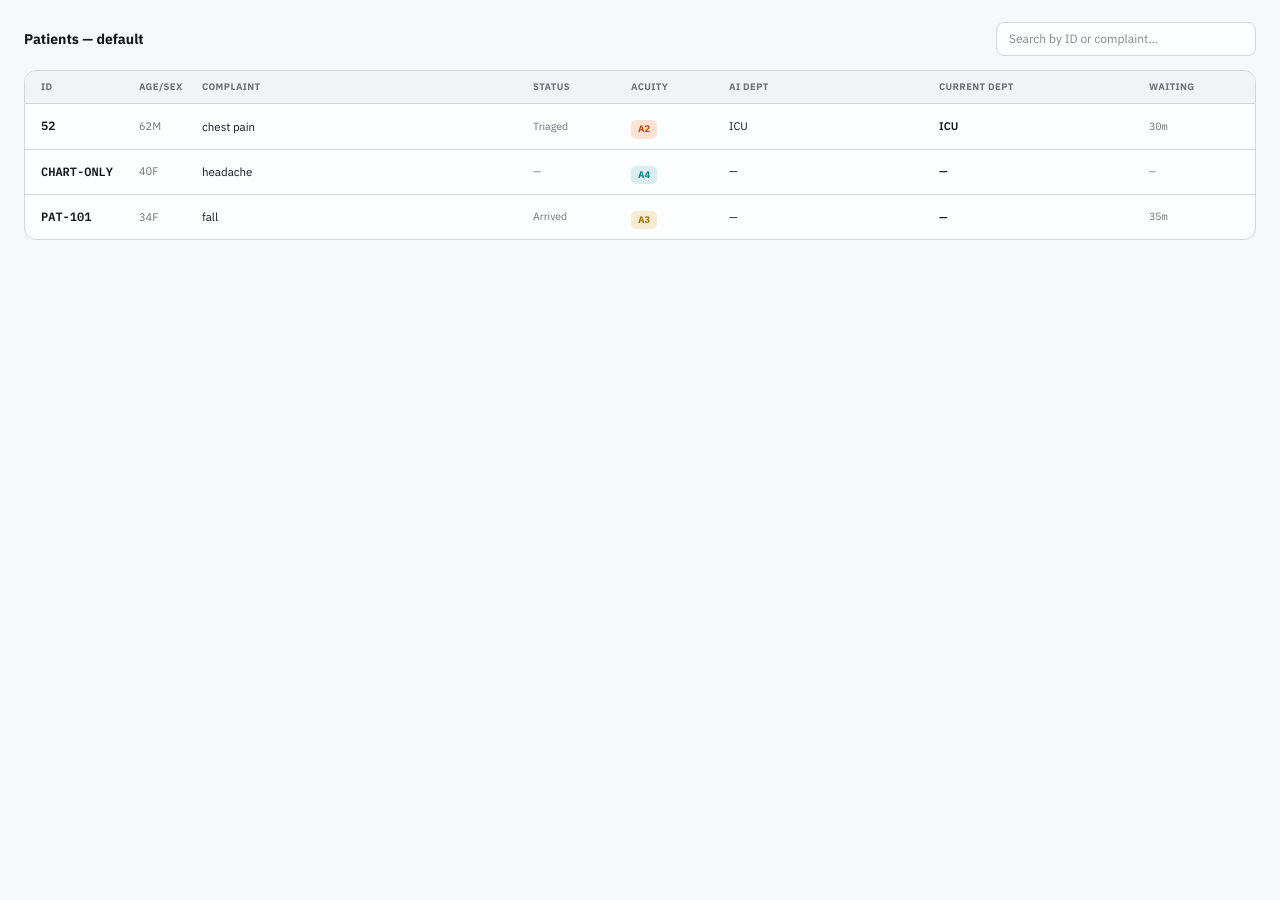
Test: PatientList table › Triage Patient for a chart-only patient (Fix 2) › offers Triage Patient in the drawer, and clicking it activates + triages the patient in one flow
Click the text "CHART-ONLY" at (77, 171), box [41, 164, 113, 179]
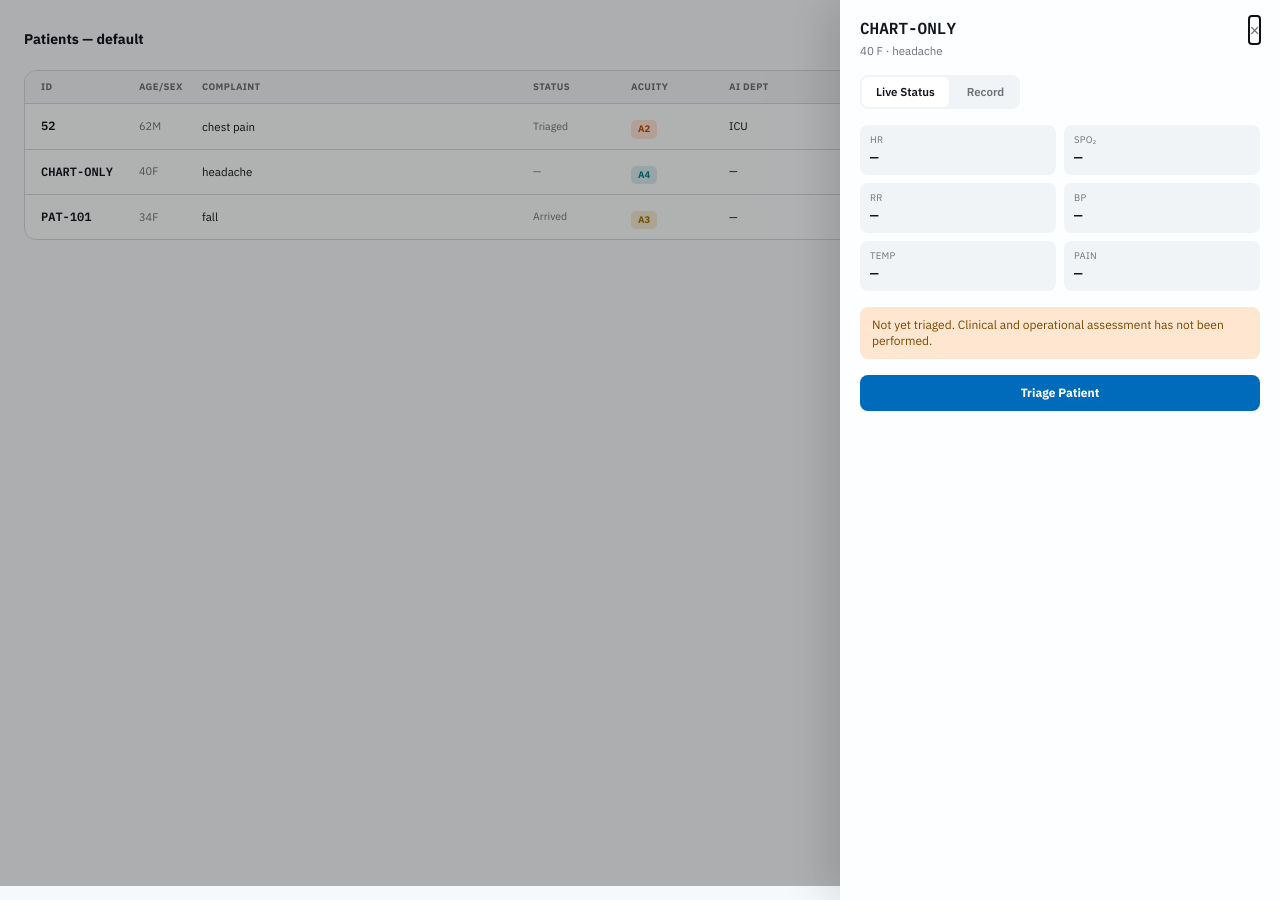
Click the button "Triage Patient" at (1060, 393), box [860, 375, 1260, 411]
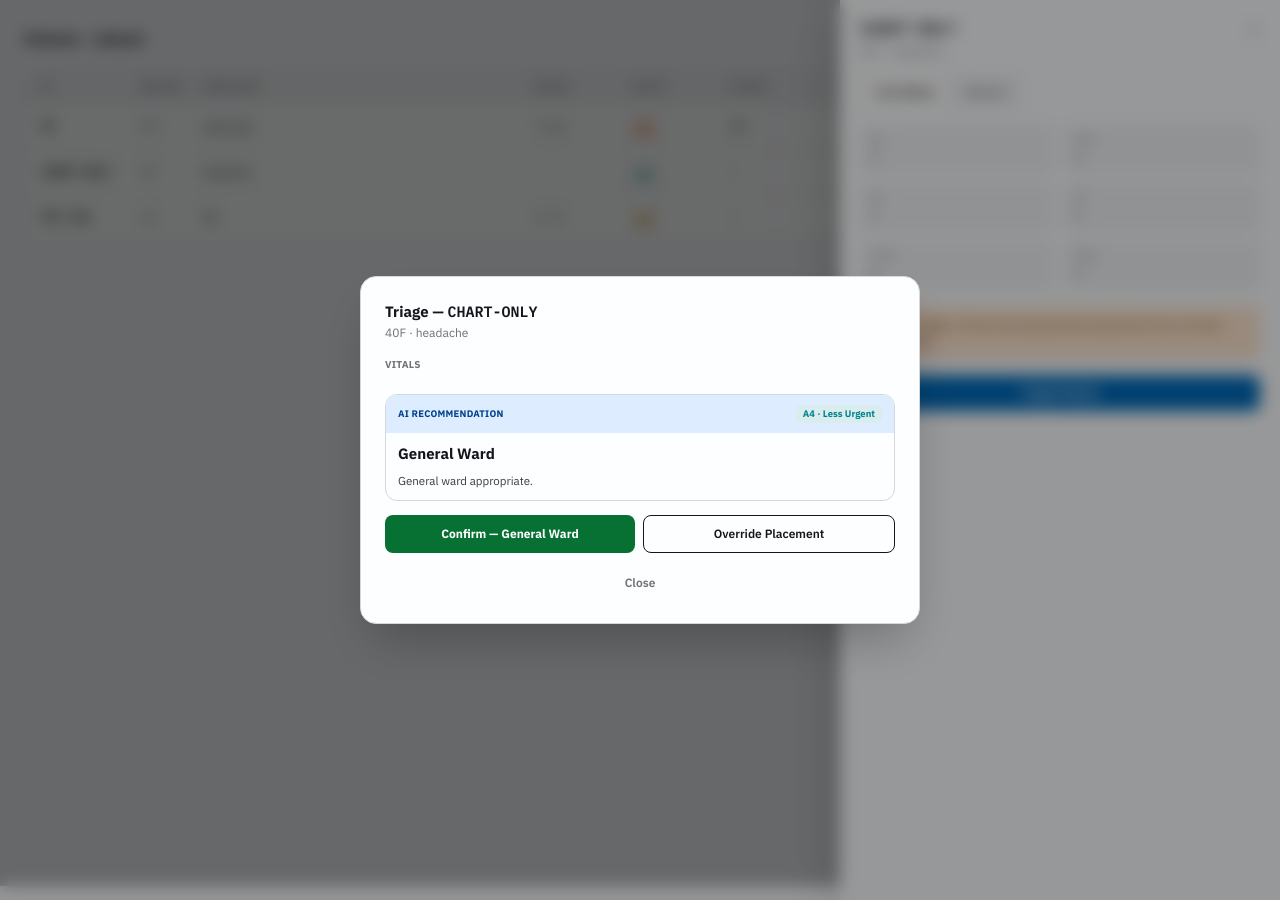
Expected: the text "General ward appropriate." is shown, [398, 473, 533, 488]
